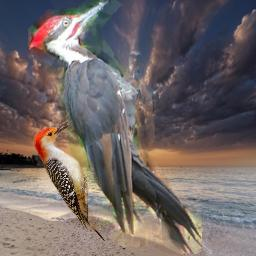Woodpecker: (28, 0, 202, 254), (33, 121, 107, 245)
